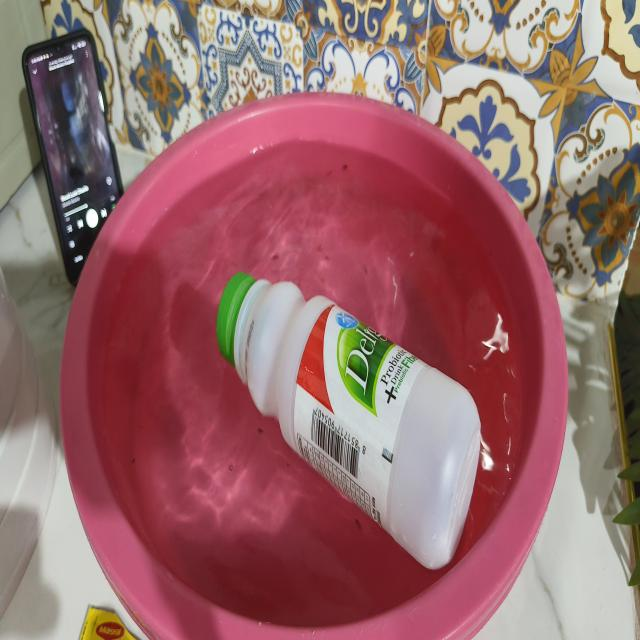Plastic Bottle: (202, 236, 500, 592)
